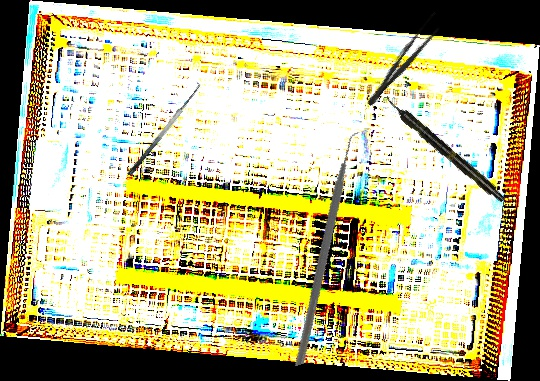Chopper: (229, 127, 438, 367)
Dressing Forceps: (362, 10, 447, 111)
Handpiece: (381, 92, 508, 206)
Spatula Surgical: (119, 78, 206, 178)
